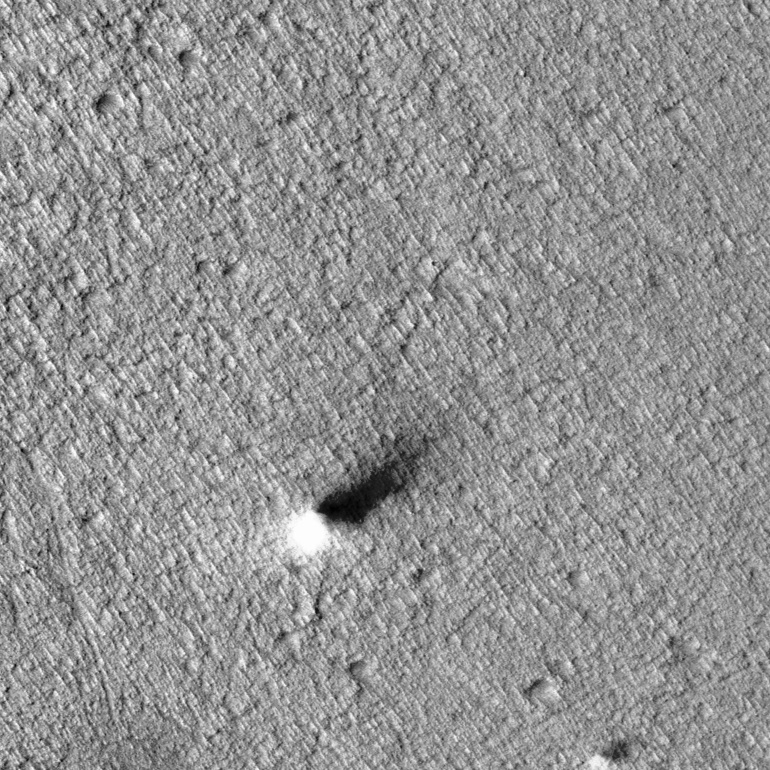dust_devil: (279, 433, 434, 565), (588, 735, 636, 770)
